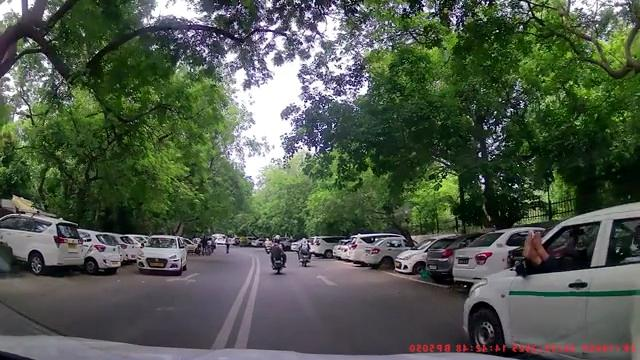motorcycle_with_helmet: (269, 234, 287, 274)
